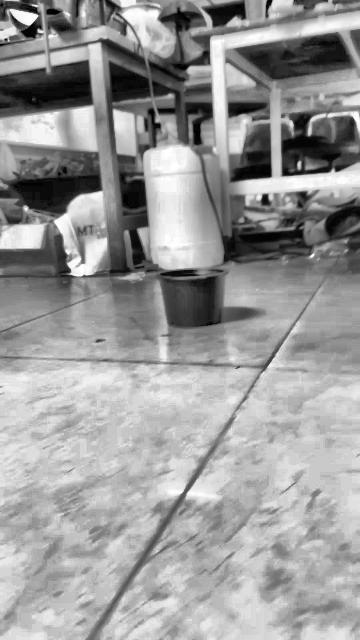pot: (157, 267, 226, 326)
